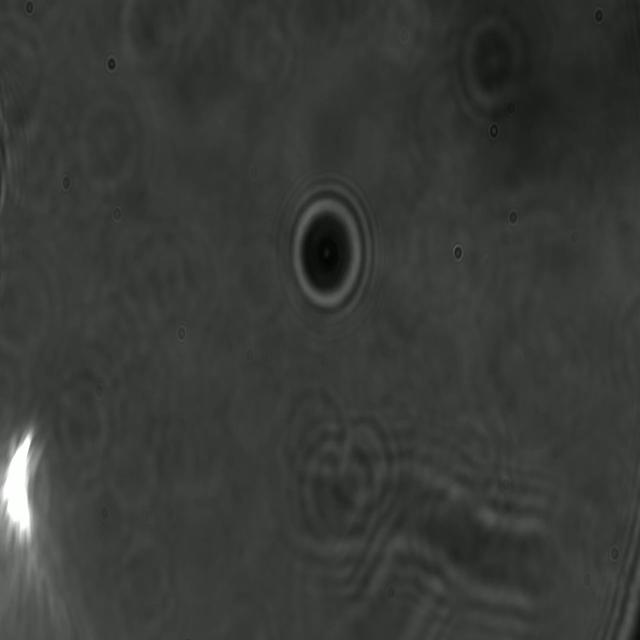DCELL: (288, 187, 372, 320)
